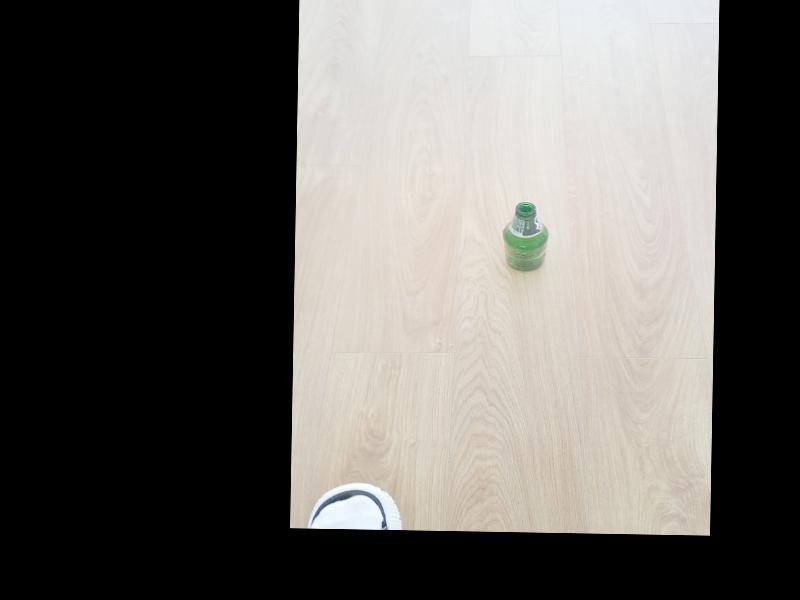Beer: (498, 201, 547, 272)
